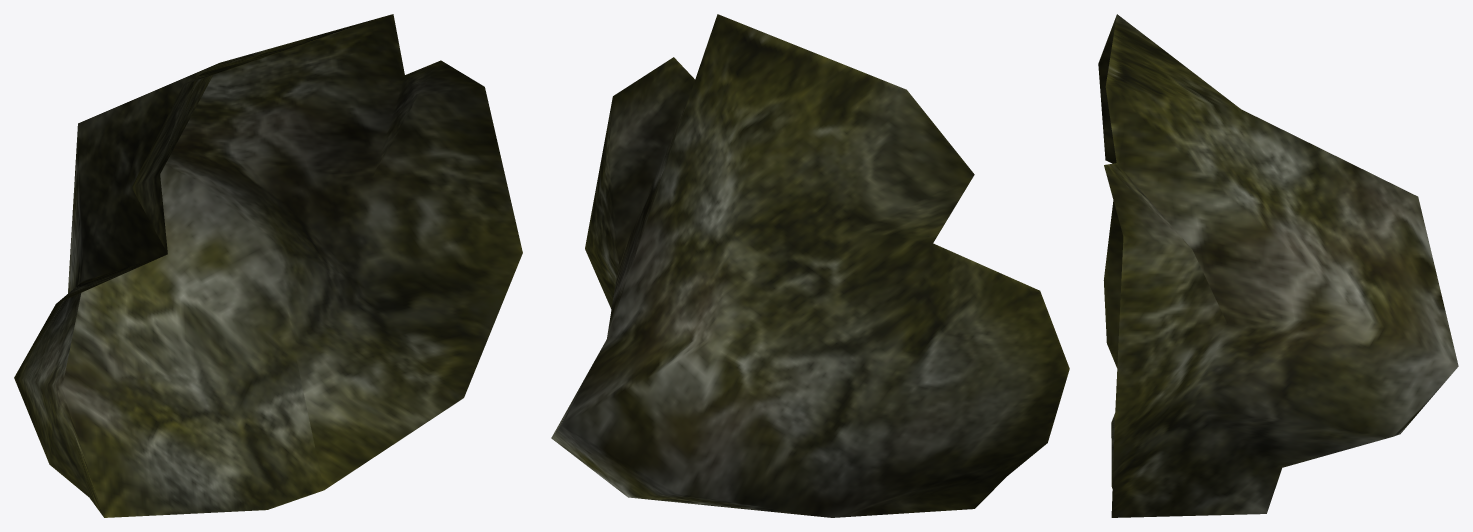
File: MEP_GroundRocks_01_c_LOD_01.fbx
3 renders of one model, left to right at view 1: azimuth 30°, elevation 25°; view 2: azimuth 150°, elevation 25°; view 3: azimuth 270°, elevation 25°, orthographic. The views are drawn at different scales.
Parts seen in each view (by area): view 1: MEP_GroundRock_01_c_LOD_01; view 2: MEP_GroundRock_01_c_LOD_01; view 3: MEP_GroundRock_01_c_LOD_01.
Part boxes in pixels (box(x1,y1,x2,y2)): MEP_GroundRock_01_c_LOD_01: box(14, 14, 522, 517); MEP_GroundRock_01_c_LOD_01: box(551, 14, 1069, 517); MEP_GroundRock_01_c_LOD_01: box(1098, 14, 1458, 517).
Bounding box in the file's own units: 2.35 × 2.07 × 1.47.
